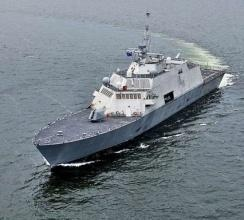warship: (29, 10, 226, 165)
